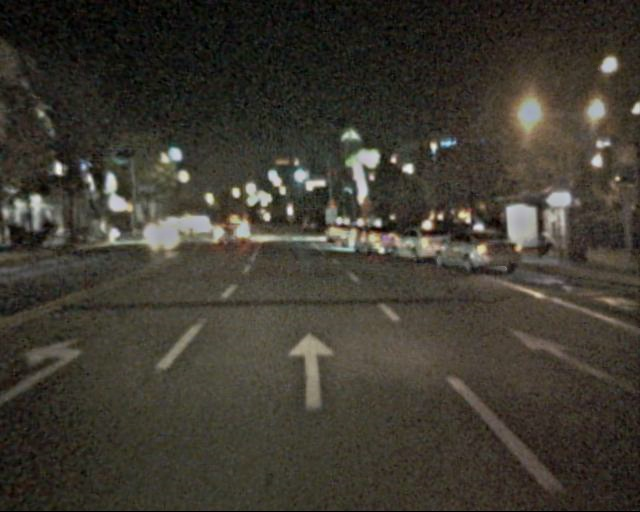person: (578, 210, 599, 262), (615, 209, 635, 257), (533, 229, 558, 262)
